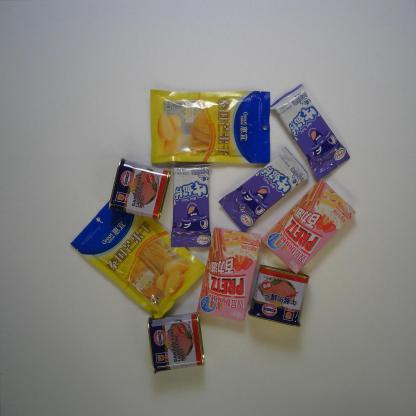Candy: (270, 84, 351, 182), (218, 146, 309, 233), (170, 162, 212, 248)
Canned Food: (247, 264, 310, 328), (108, 157, 171, 220), (146, 312, 206, 374)
Dessert: (261, 178, 356, 275), (196, 226, 262, 322)
Dried Fruit: (70, 197, 206, 320), (150, 88, 271, 164)
